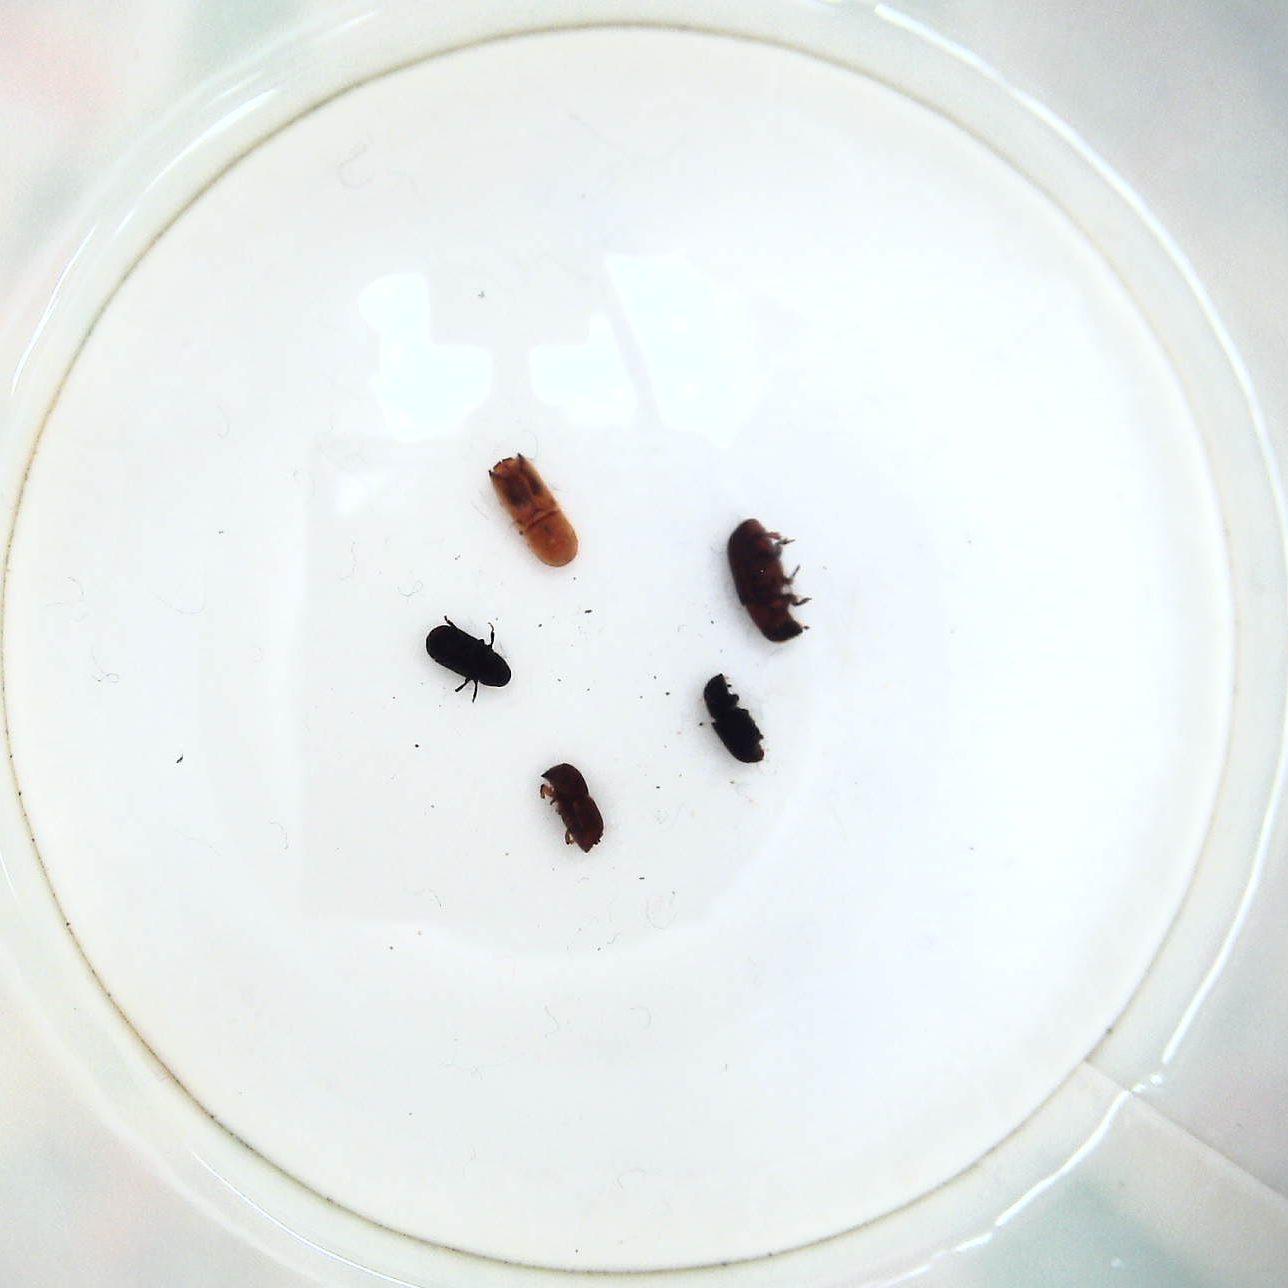Boerner: (487, 452, 581, 571)
Leconte: (728, 510, 816, 648)
armandi: (702, 671, 765, 769)
coleoptera: (423, 615, 514, 698)
linnaeus: (533, 761, 606, 859)
